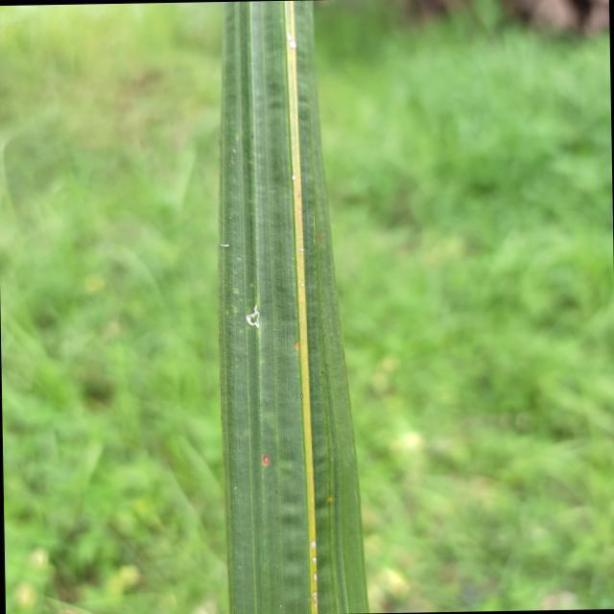Boron: (216, 0, 364, 614)
